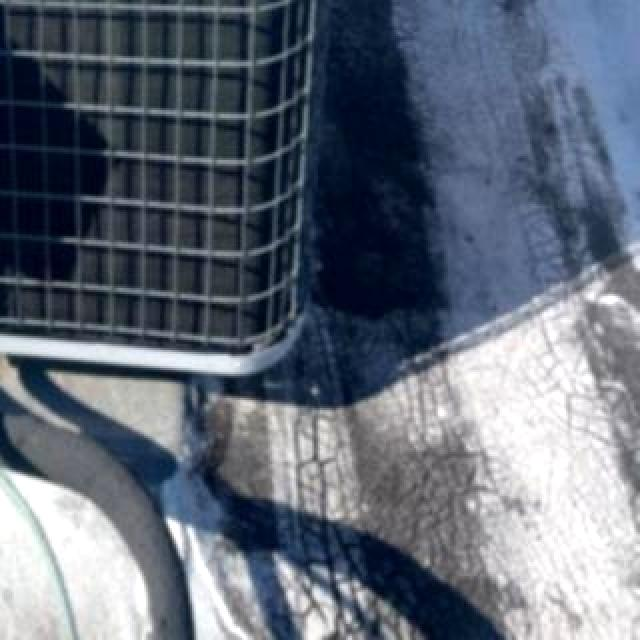SPLIT-SYSTEM: (0, 0, 358, 392)
